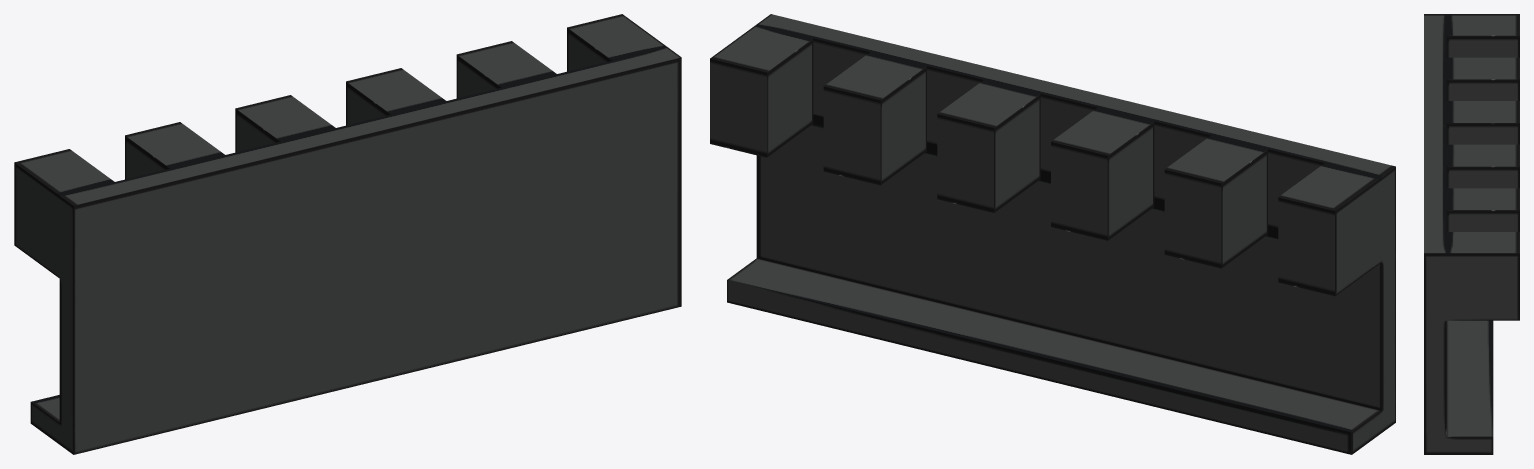
File: L_reageerbuishouder.fbx
3 renders of one model, left to right at view 1: azimuth 30°, elevation 25°; view 2: azimuth 150°, elevation 25°; view 3: azimuth 270°, elevation 25°, orthographic. The views are drawn at different scales.
Visible parts, largest first — view 1: L_reageerbuishouder; view 2: L_reageerbuishouder; view 3: L_reageerbuishouder.
Part boxes in pixels (x1,y1,x2,y2): L_reageerbuishouder: (14,14,681,454); L_reageerbuishouder: (710,14,1395,454); L_reageerbuishouder: (1424,14,1519,454).
Bounding box in the file's own units: 71.64 × 28.06 × 12.09.
1 material, 1 textured.
